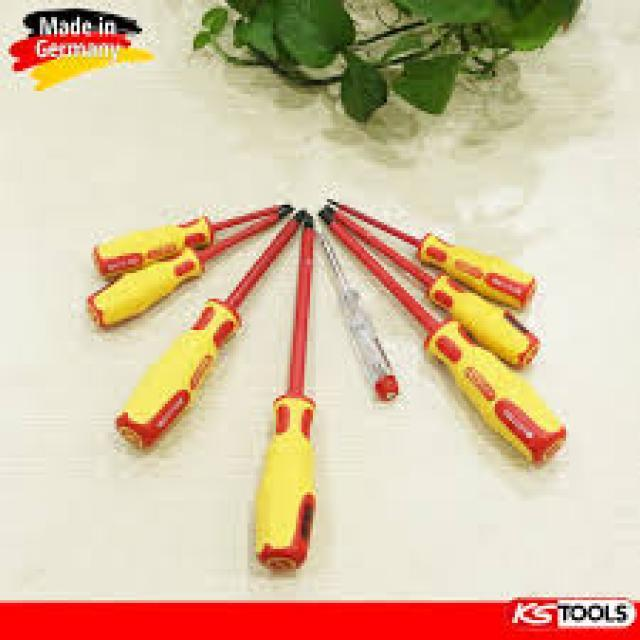screwdriver: (317, 204, 568, 474), (114, 205, 310, 452), (320, 204, 542, 368), (84, 204, 298, 332), (252, 202, 321, 577), (324, 194, 538, 308), (312, 218, 399, 402), (92, 200, 289, 280)
